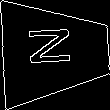N_E: (29, 31, 82, 73)
